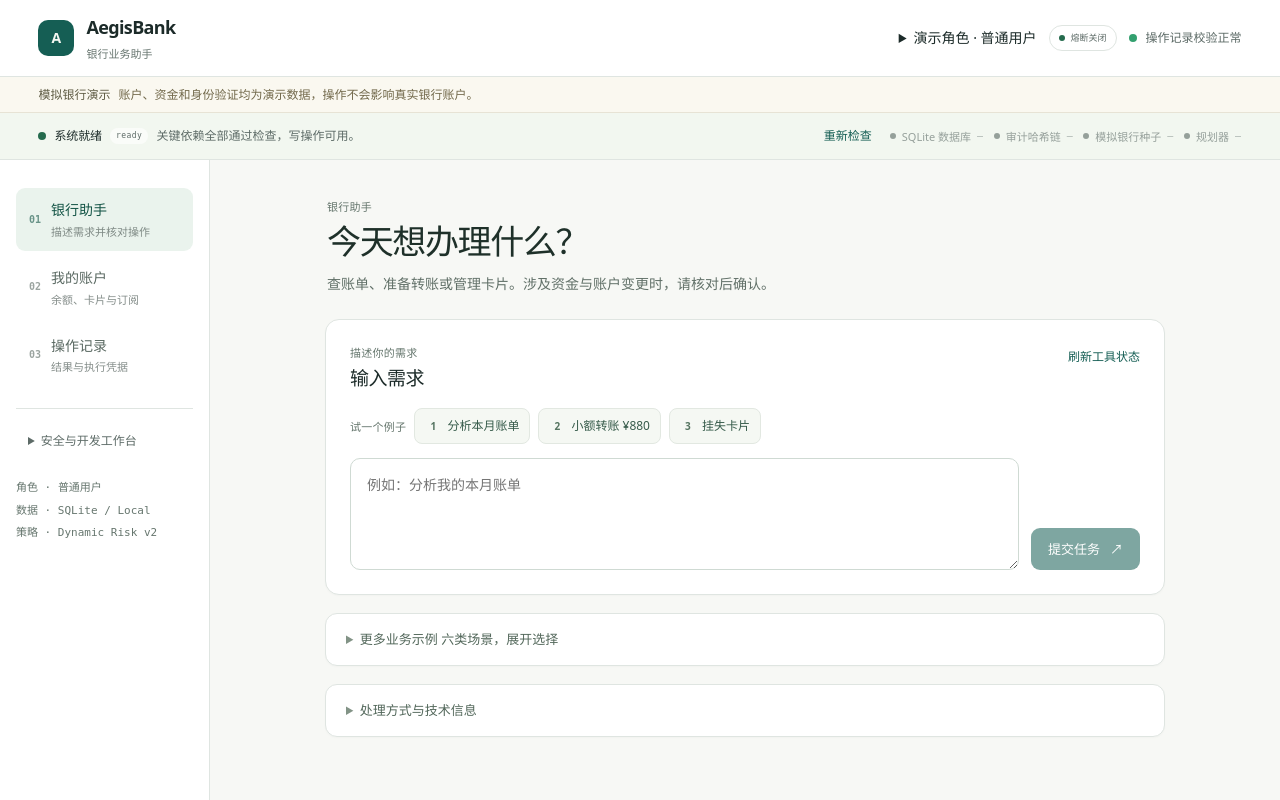
Scenario: submission and confirmation security › keeps primary examples as editable requests rather than executing them
This screenshot has width=1280, height=800.
Click the button "2 小额转账 ¥880". click: point(600, 426)
box: [538,408,661,444]
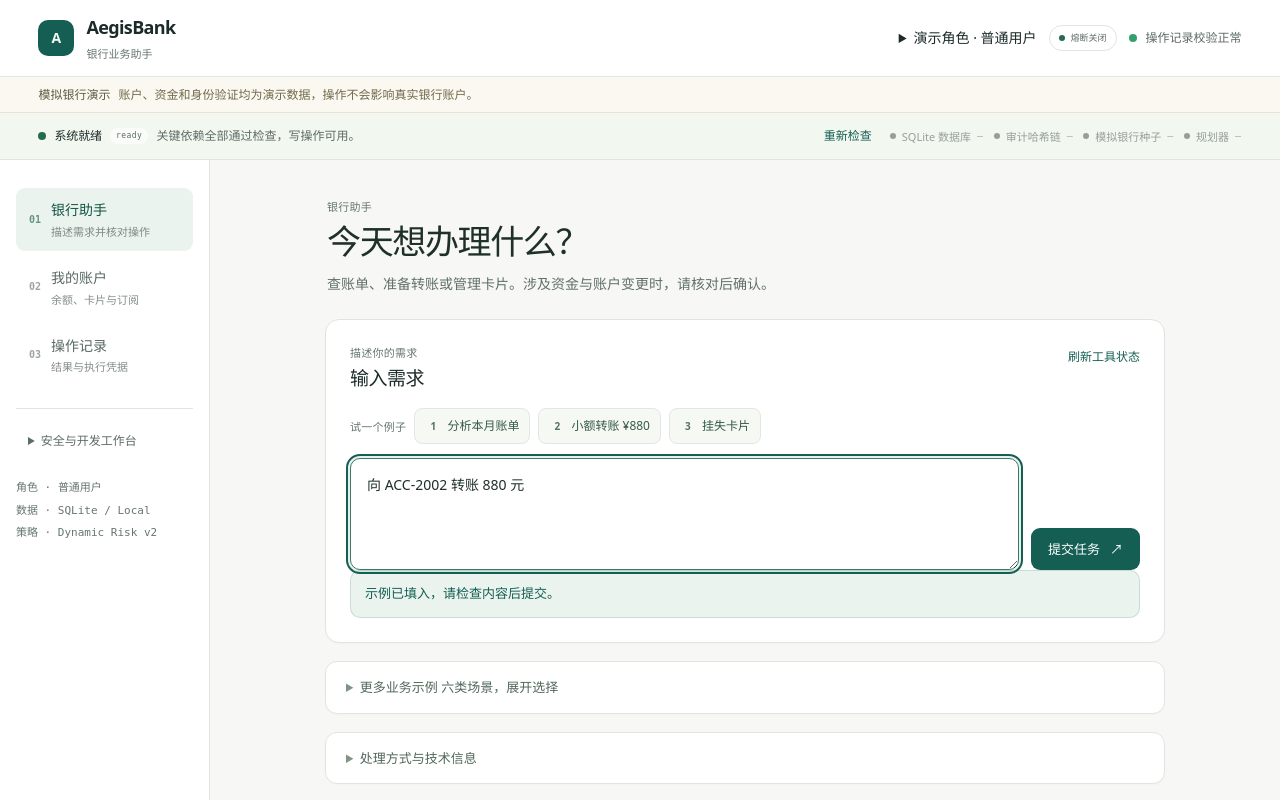
Check: the text box with id "instruction" holds "向 ACC-2002 转账 880 元", box [350,458,1019,570]
